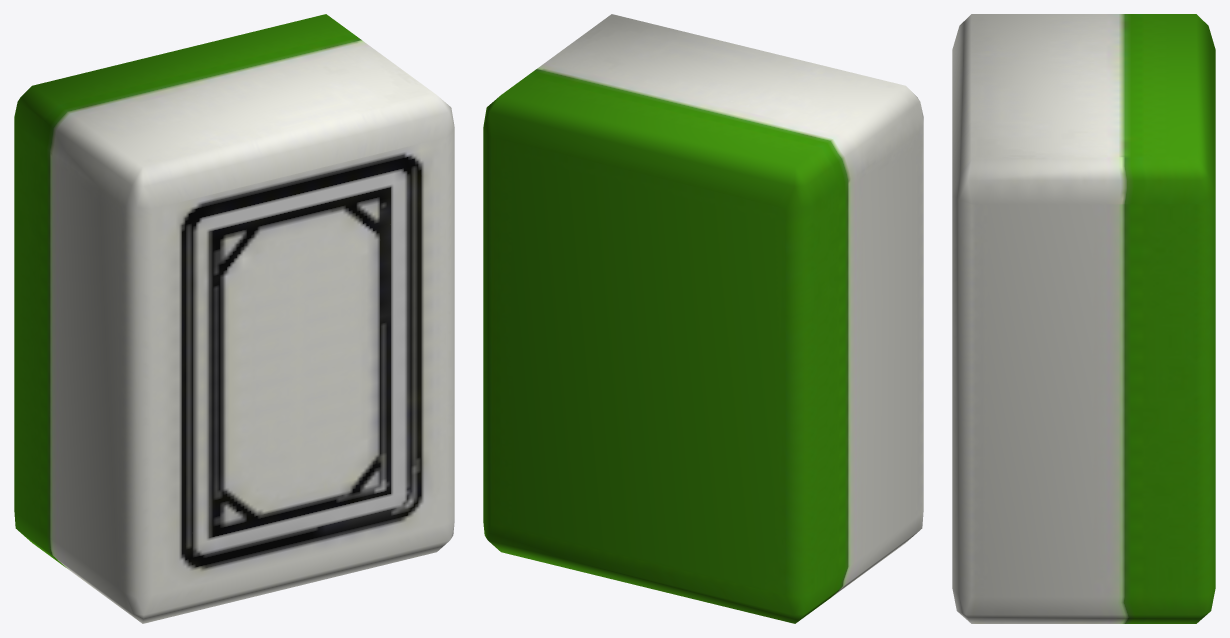
The model's file is mj_jian3.FBX.
3 renders of one model, left to right at view 1: azimuth 30°, elevation 25°; view 2: azimuth 150°, elevation 25°; view 3: azimuth 270°, elevation 25°, orthographic.
Visible parts, largest first — view 1: default011; view 2: default011; view 3: default011.
Part boxes in pixels (<box>): default011: <box>14,14,454,623</box>; default011: <box>483,14,923,623</box>; default011: <box>952,14,1215,623</box>.
Size of the model in its own units: 0.0339 by 0.045 by 0.0232.
1 material, 1 textured.
